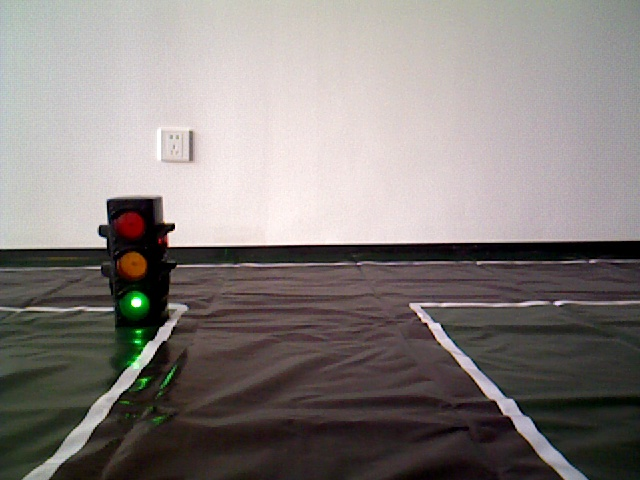green: (109, 202, 161, 314)
